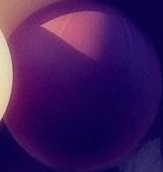Balloon: (3, 2, 163, 172)
